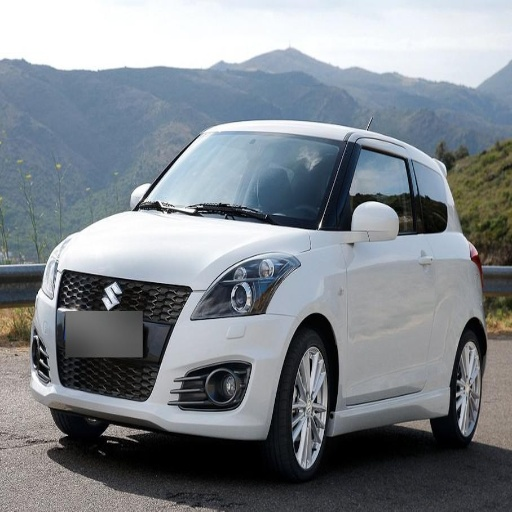front_bumper: (35, 265, 295, 437)
front_glass: (136, 132, 343, 228)
front_left_door: (335, 140, 433, 402)
